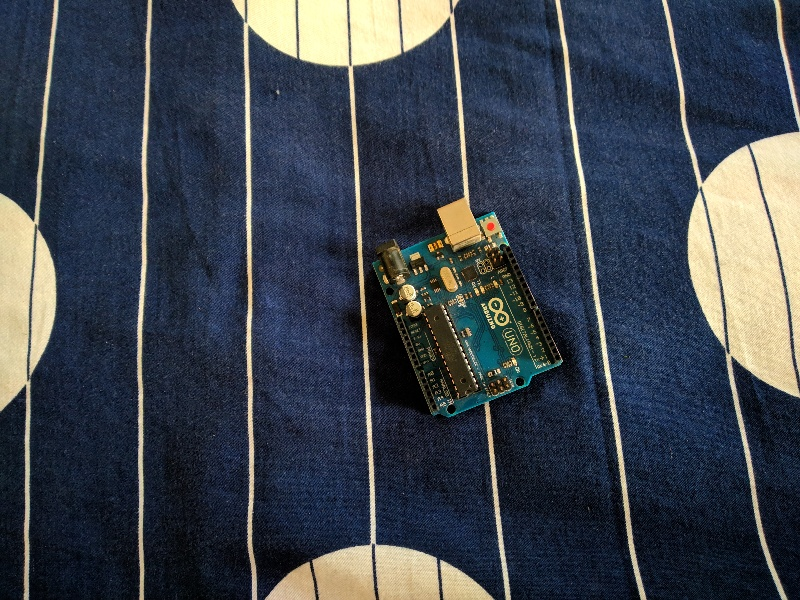Arduino UNO: (361, 188, 571, 432)
